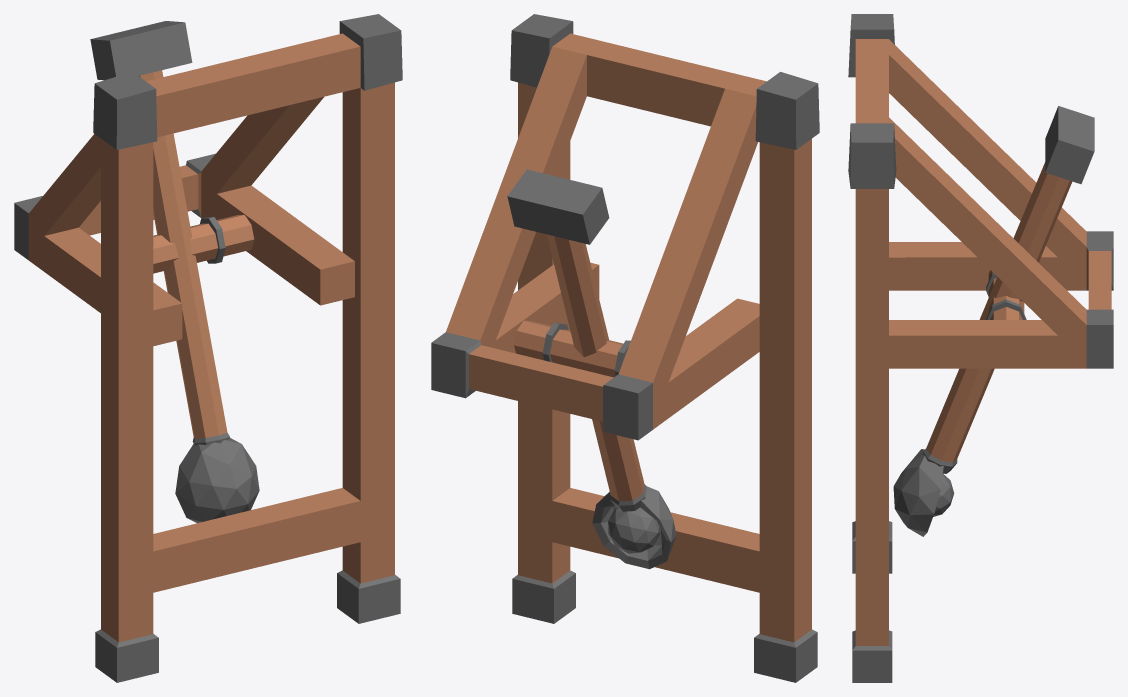
The model's file is katapult.fbx.
The picture shows the model from 3 angles, left to right: view 1: azimuth 30°, elevation 25°; view 2: azimuth 150°, elevation 25°; view 3: azimuth 270°, elevation 25°; orthographic projection. The views are drawn at different scales.
Parts seen in each view (by area): view 1: catapult; view 2: catapult; view 3: catapult.
Part boxes in pixels (x1=…): catapult: x1=14, y1=14, x2=402, y2=682; catapult: x1=431, y1=14, x2=819, y2=682; catapult: x1=848, y1=14, x2=1113, y2=682.
Size of the model in its own units: 184 by 360 by 160.
